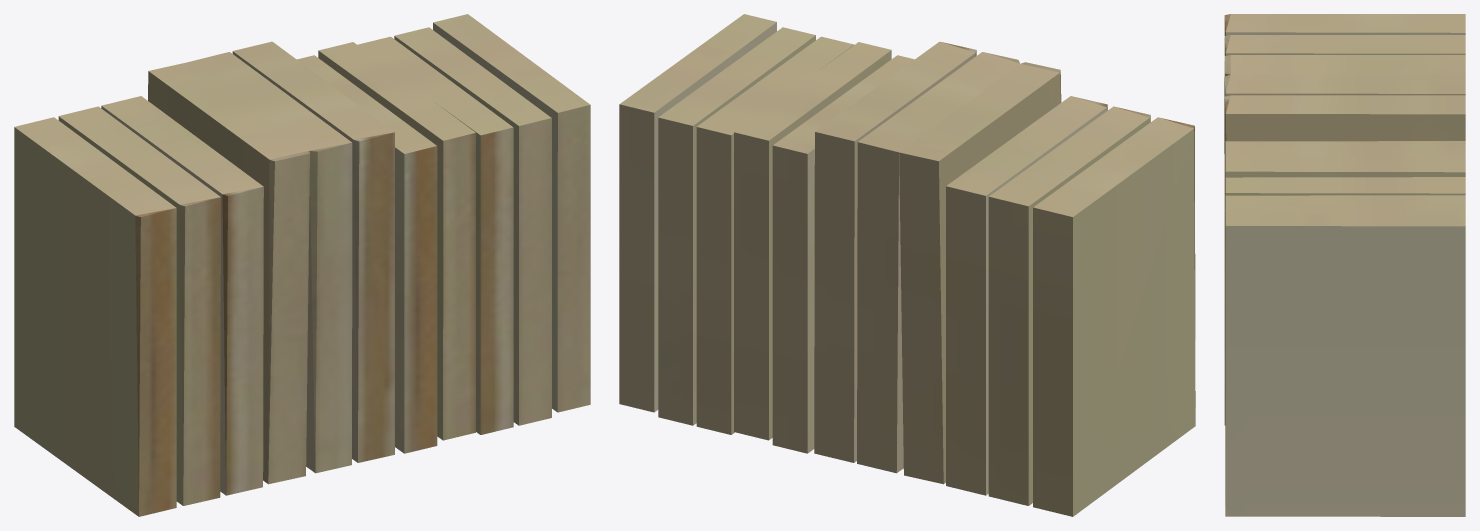
The model's file is book3_v5.dae.
3 views of the same model, side by side, from view 1: azimuth 30°, elevation 25°; view 2: azimuth 150°, elevation 25°; view 3: azimuth 270°, elevation 25° (orthographic). The views are drawn at different scales.
Visible parts, largest first — view 1: node; view 2: node; view 3: node.
Boxes of the visible parts, bbox=[...] form: node: bbox=[14, 14, 590, 516]; node: bbox=[619, 14, 1195, 516]; node: bbox=[1224, 14, 1465, 516].
Size of the model in its own units: 0.2534 by 0.1732 by 0.1203.
1 material, 1 textured.
